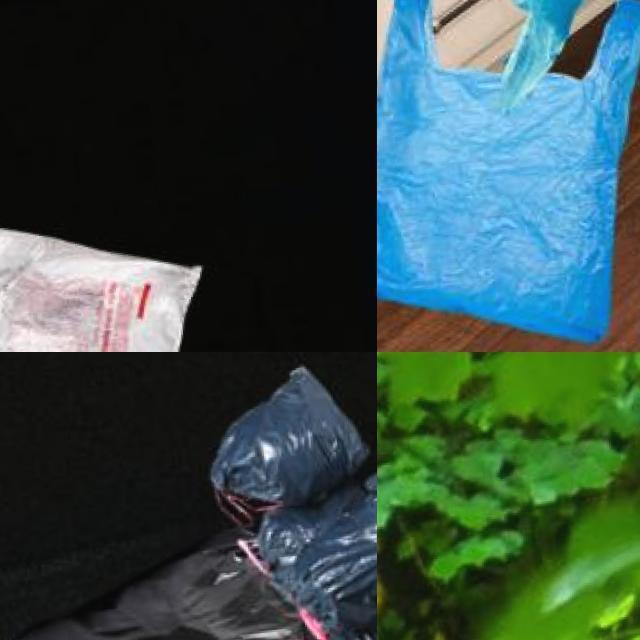waste: (377, 0, 640, 352), (0, 212, 215, 352), (206, 361, 377, 515), (253, 471, 377, 627)
